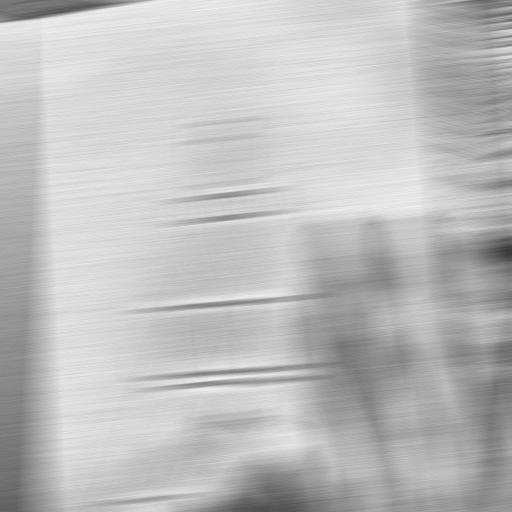eiffel-tower: (51, 43, 428, 512)
